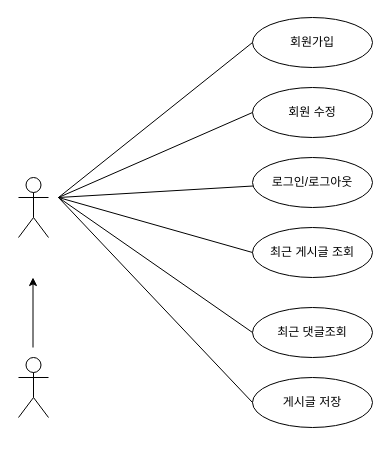
Image size: 390x456. Some labels were removed from this diagram. Here are the shapes that lost their labels. From the top down, the box of each, then its label:
(18, 176, 48, 238): 사용자
(18, 356, 48, 418): 관리자
